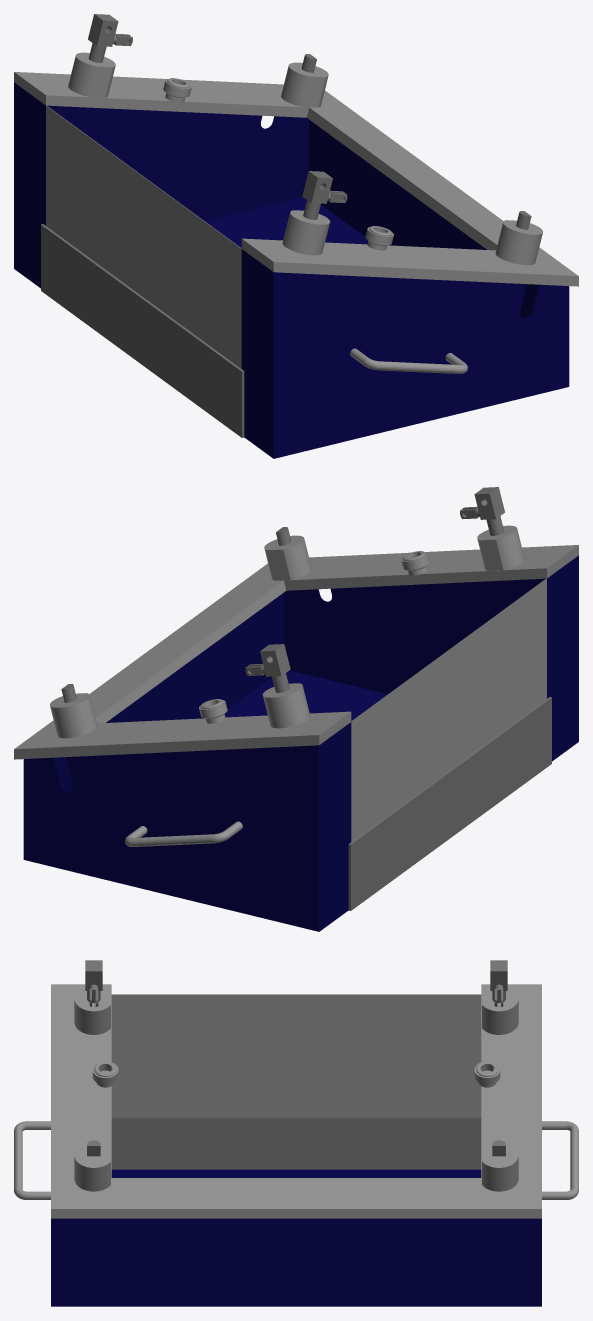
3 renders of one model, top to bottom at view 1: azimuth 30°, elevation 25°; view 2: azimuth 150°, elevation 25°; view 3: azimuth 270°, elevation 25°, orthographic. The views are drawn at different scales.
Parts seen in each view (by area): view 1: box_body, box_cover, box_backplate_top, box_backplate_bottom, box_spacer_lock_left, box_spacer_lock_right, box_spacer_hinge_right, box_spacer_hinge_left, box_handle_left, box_hinge_right, box_hinge_left, box_adapter_retainer_left (+1 smaller); view 2: box_body, box_cover, box_backplate_top, box_backplate_bottom, box_spacer_lock_left, box_spacer_lock_right, box_spacer_hinge_left, box_spacer_hinge_right, box_handle_right, box_hinge_left, box_hinge_right, box_adapter_retainer_right (+1 smaller); view 3: box_body, box_backplate_top, box_cover, box_backplate_bottom, box_spacer_lock_left, box_spacer_lock_right, box_spacer_hinge_right, box_spacer_hinge_left, box_handle_left, box_handle_right, box_hinge_left, box_hinge_right (+2 smaller).
Part boxes in pixels (x1,y1,x2,y2): box_body: [14, 82, 569, 458]; box_cover: [14, 72, 578, 286]; box_backplate_top: [46, 105, 241, 368]; box_backplate_bottom: [41, 224, 244, 437]; box_spacer_lock_left: [495, 220, 542, 265]; box_spacer_lock_right: [281, 62, 328, 107]; box_spacer_hinge_right: [68, 52, 115, 97]; box_spacer_hinge_left: [282, 210, 330, 255]; box_handle_left: [350, 348, 467, 373]; box_hinge_right: [88, 14, 118, 62]; box_hinge_left: [302, 171, 332, 219]; box_adapter_retainer_left: [365, 226, 393, 250]; box_body: [23, 555, 578, 931]; box_cover: [14, 545, 578, 759]; box_backplate_top: [351, 578, 546, 841]; box_backplate_bottom: [348, 697, 551, 910]; box_spacer_lock_left: [264, 535, 311, 580]; box_spacer_lock_right: [50, 693, 97, 738]; box_spacer_hinge_left: [477, 525, 524, 570]; box_spacer_hinge_right: [262, 683, 310, 728]; box_handle_right: [125, 821, 242, 846]; box_hinge_left: [474, 487, 504, 535]; box_hinge_right: [260, 644, 290, 692]; box_adapter_retainer_right: [199, 699, 227, 723]; box_body: [51, 1169, 541, 1306]; box_backplate_top: [111, 994, 481, 1118]; box_cover: [51, 984, 541, 1218]; box_backplate_bottom: [111, 1118, 481, 1169]; box_spacer_lock_left: [74, 1143, 110, 1191]; box_spacer_lock_right: [482, 1143, 518, 1191]; box_spacer_hinge_right: [482, 987, 518, 1034]; box_spacer_hinge_left: [74, 987, 110, 1034]; box_handle_left: [14, 1121, 50, 1199]; box_handle_right: [542, 1121, 578, 1199]; box_hinge_left: [85, 960, 102, 1002]; box_hinge_right: [490, 960, 507, 1002].
Bounding box in the file's own units: 38.84 × 65.39 × 30.51.
